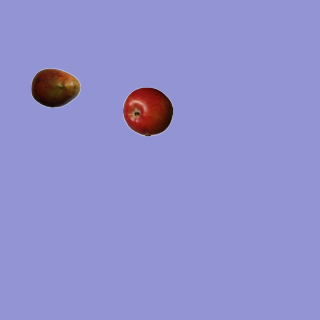Apple Braeburn: (122, 86, 172, 136)
Mango Red: (30, 62, 80, 112)
